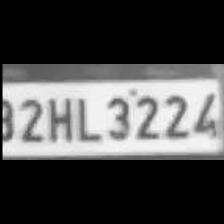2: (158, 89, 190, 139), (130, 91, 160, 139), (14, 94, 42, 142)
3: (99, 91, 130, 139)
4: (188, 90, 218, 136)
H: (44, 93, 72, 143)
L: (73, 91, 99, 141)
